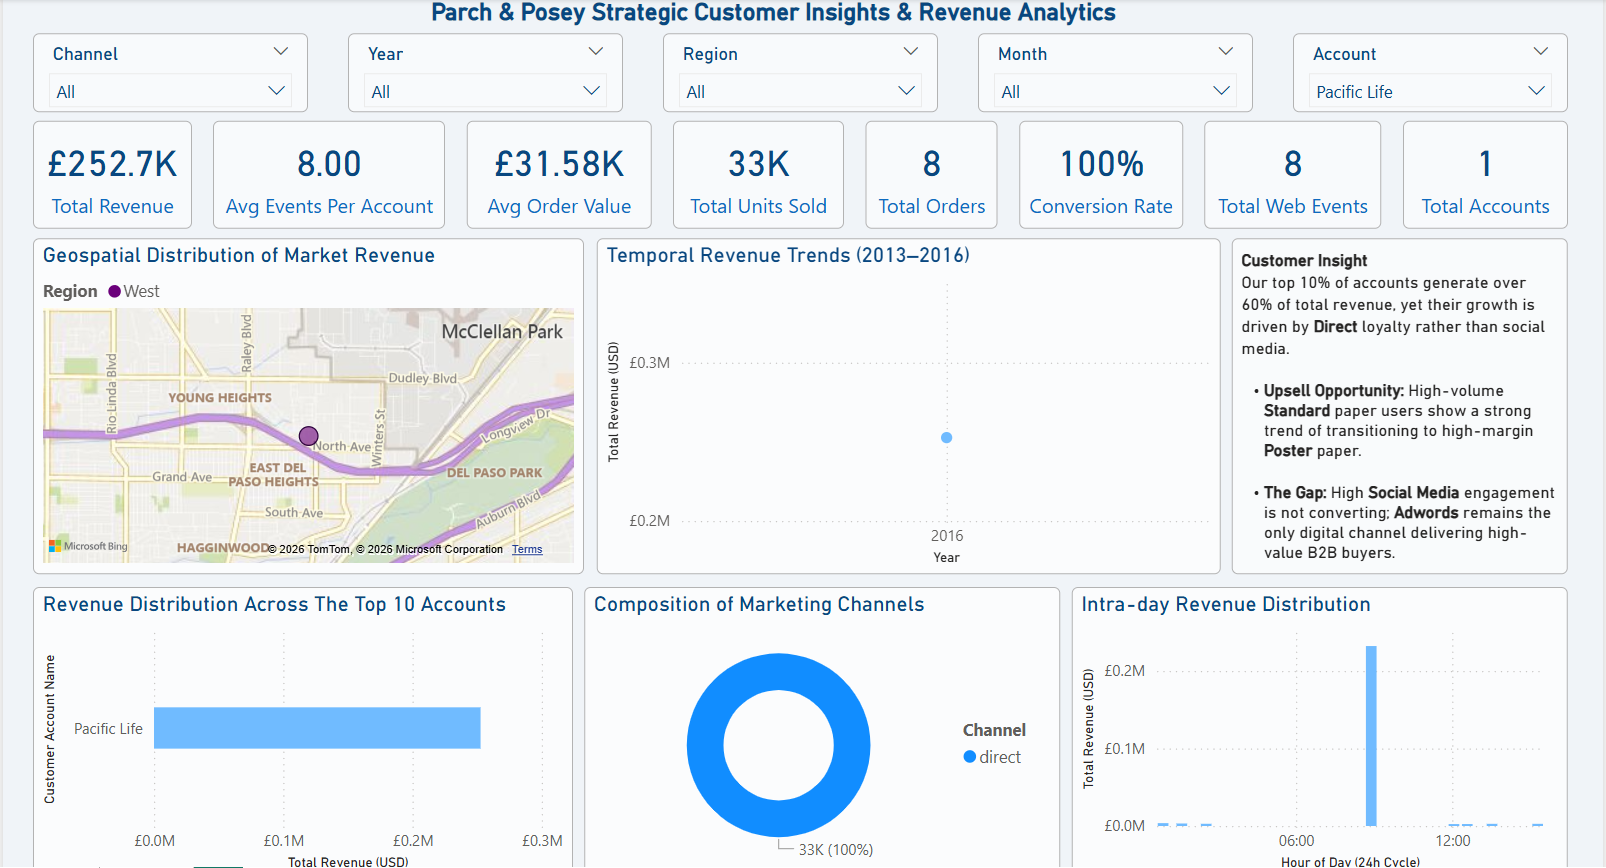

This screenshot's page, from the dashboard's own definition file:
{"tool":"powerbi","page":{"name":"Page 1","canvas":[1280,720],"ordinal":0},"visuals":[{"type":"card","fields":{"Values":["orders.Total Orders"]},"box":[690,103,106,86],"z":0},{"type":"card","fields":{"Values":["orders.Total Revenue"]},"box":[24,103,127,86],"z":1000},{"type":"clusteredBarChart","title":"Revenue Distribution Across The Top 10 Accounts","fields":{"Category":["accounts.name"],"Y":["orders.Total Revenue"]},"box":[24,476,432,234],"z":2000},{"type":"map","title":"Geospatial Distribution of Market Revenue","fields":{"Series":["region.name"],"Size":["orders.Total Revenue"],"Y":["accounts.lat"],"X":["accounts.long"]},"box":[24,197,441,269],"z":3000},{"type":"lineChart","title":"Temporal Revenue Trends (2013–2016)","fields":{"Category":["orders.occurred_at.1.Variation.Date Hierarchy.Year","orders.occurred_at.1.Variation.Date Hierarchy.Quarter","orders.occurred_at.1.Variation.Date Hierarchy.Month","orders.occurred_at.1.Variation.Date Hierarchy.Day"],"Y":["orders.Total Revenue"]},"box":[474.5,197,499,269],"z":4000},{"type":"clusteredColumnChart","title":"Intra-day Revenue Distribution","fields":{"Category":["orders.occurred_at.2"],"Y":["orders.Total Revenue"]},"box":[855,476,397,234],"z":5000},{"type":"slicer","fields":{"Values":["region.name"]},"box":[528,33,220,63],"z":6000},{"type":"donutChart","title":"Composition of Marketing Channels","fields":{"Category":["web_events.channel"],"Y":["Sum(web_events.id)"]},"box":[465,476,381,234],"z":7000},{"type":"textbox","box":[225,0,783,33],"z":8000},{"type":"card","fields":{"Values":["orders.Avg Order Value"]},"box":[371,103,148,86],"z":9000},{"type":"card","fields":{"Values":["orders.Total Accounts"]},"box":[1120,103,132,86],"z":10000},{"type":"card","fields":{"Values":["orders.Total Units Sold"]},"box":[536,103,137,86],"z":11000},{"type":"card","fields":{"Values":["orders.Avg Events Per Account"]},"box":[168,103,186,86],"z":12000},{"type":"card","fields":{"Values":["orders.Total Web Events"]},"box":[961,103,142,86],"z":13000},{"type":"card","fields":{"Values":["orders.Conversion Rate"]},"box":[813,103,131,86],"z":14000},{"type":"slicer","fields":{"Values":["accounts.name"]},"box":[1032,33,220,63],"z":15000},{"type":"slicer","fields":{"Values":["orders.occurred_at.1.Variation.Date Hierarchy.Month"]},"box":[780,33,220,63],"z":16000},{"type":"slicer","fields":{"Values":["orders.occurred_at.1.Variation.Date Hierarchy.Year"]},"box":[276,33,220,63],"z":17000},{"type":"slicer","fields":{"Values":["web_events.channel"]},"box":[24,33,220,63],"z":18000},{"type":"textbox","box":[983,197,269,269],"z":19000}]}

Visuals, with their boxes on the page's 1280x720 design canvas (x1, y1, x2, y2). These are canvas units, not pixel positions in the 1606x868 screenshot, which may show the page scaled, cropped or inside an application window:
card - orders.Total Orders: box(690, 103, 796, 189)
card - orders.Total Revenue: box(24, 103, 151, 189)
"Revenue Distribution Across The Top 10 Accounts" clusteredBarChart: box(24, 476, 456, 710)
"Geospatial Distribution of Market Revenue" map: box(24, 197, 465, 466)
"Temporal Revenue Trends (2013–2016)" lineChart: box(474, 197, 974, 466)
"Intra-day Revenue Distribution" clusteredColumnChart: box(855, 476, 1252, 710)
slicer - region.name: box(528, 33, 748, 96)
"Composition of Marketing Channels" donutChart: box(465, 476, 846, 710)
textbox: box(225, 0, 1008, 33)
card - orders.Avg Order Value: box(371, 103, 519, 189)
card - orders.Total Accounts: box(1120, 103, 1252, 189)
card - orders.Total Units Sold: box(536, 103, 673, 189)
card - orders.Avg Events Per Account: box(168, 103, 354, 189)
card - orders.Total Web Events: box(961, 103, 1103, 189)
card - orders.Conversion Rate: box(813, 103, 944, 189)
slicer - accounts.name: box(1032, 33, 1252, 96)
slicer - orders.occurred_at.1.Variation.Date Hierarchy.Month: box(780, 33, 1000, 96)
slicer - orders.occurred_at.1.Variation.Date Hierarchy.Year: box(276, 33, 496, 96)
slicer - web_events.channel: box(24, 33, 244, 96)
textbox: box(983, 197, 1252, 466)
